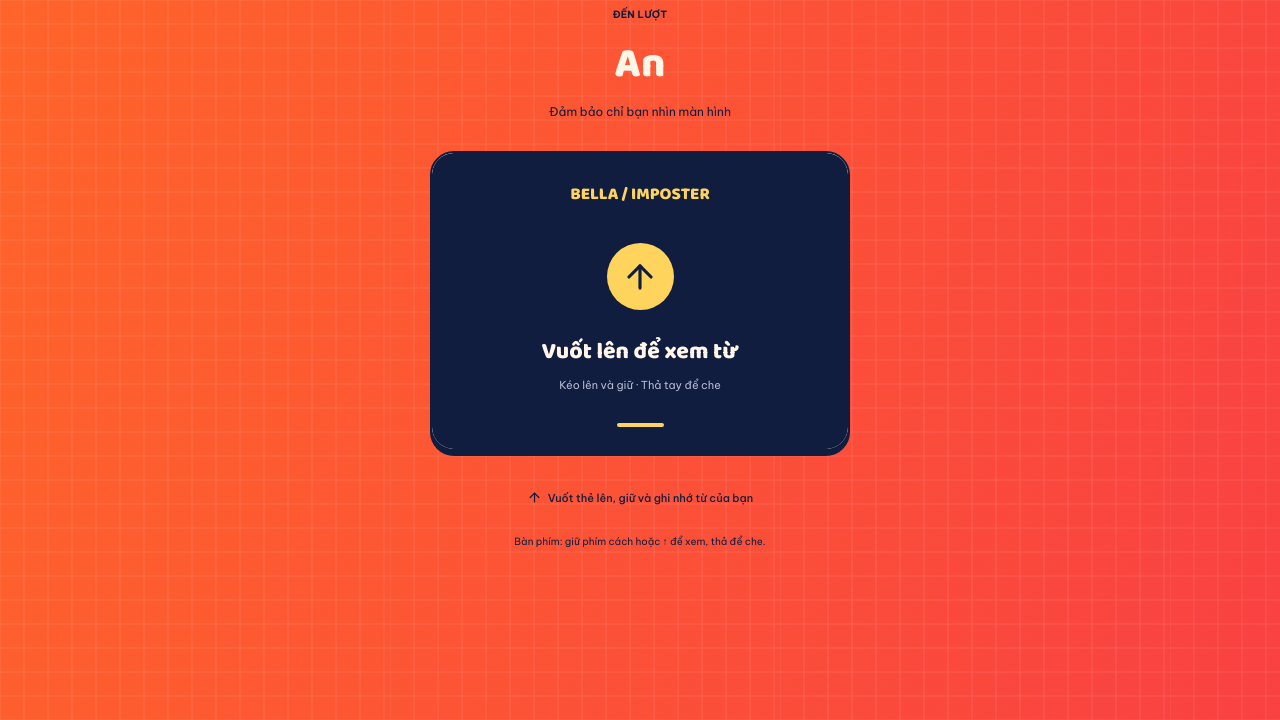
Scenario: Vuốt và giữ bí mật › kéo chuột: dưới ngưỡng không hiện, vượt ngưỡng mới hiện, thả che tức thì
This screenshot has width=1280, height=720.
Later steps or results of the test are not shown.
Press the mouse on the button "Kéo lên và giữ" at {"x": 640, "y": 301}, box [430,151,850,451]
Expected: the text "Continue" is not shown
Press the mouse on the button "Kéo lên và giữ" at {"x": 640, "y": 301}, box [430,151,850,451]
Wait 245 ms
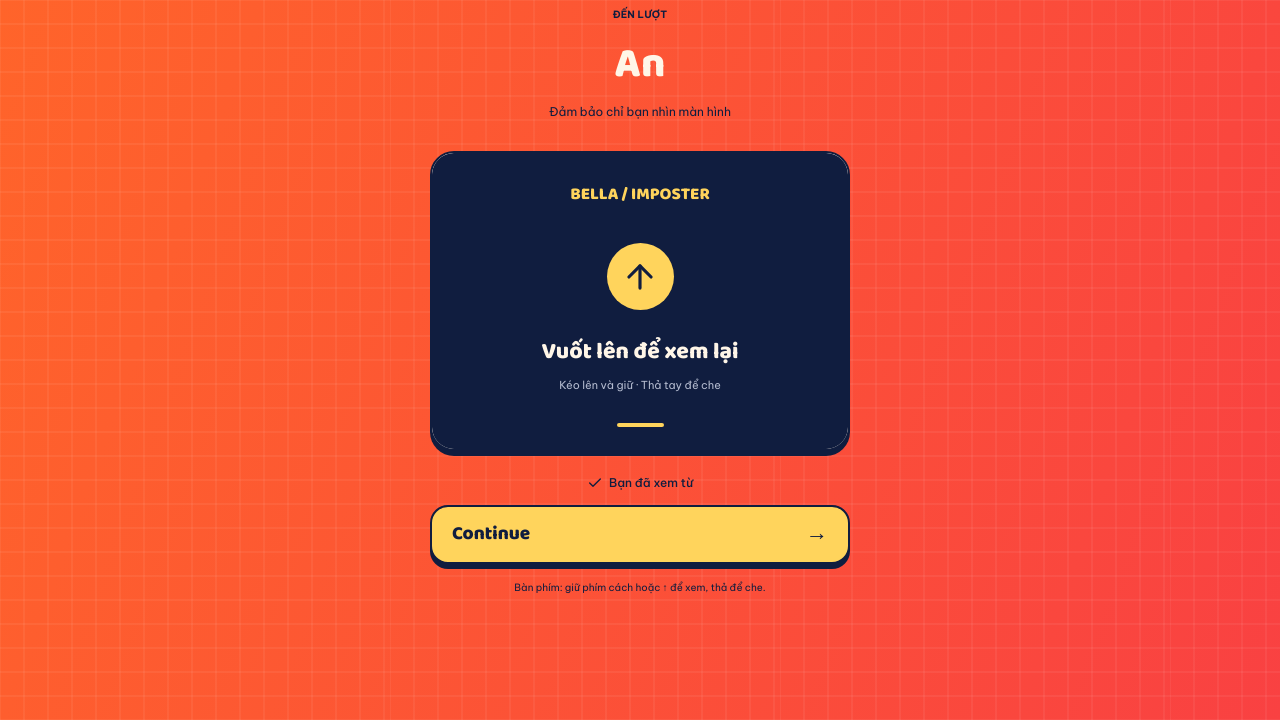
Now the button "Continue →" is shown, box [430,505,850,564]
